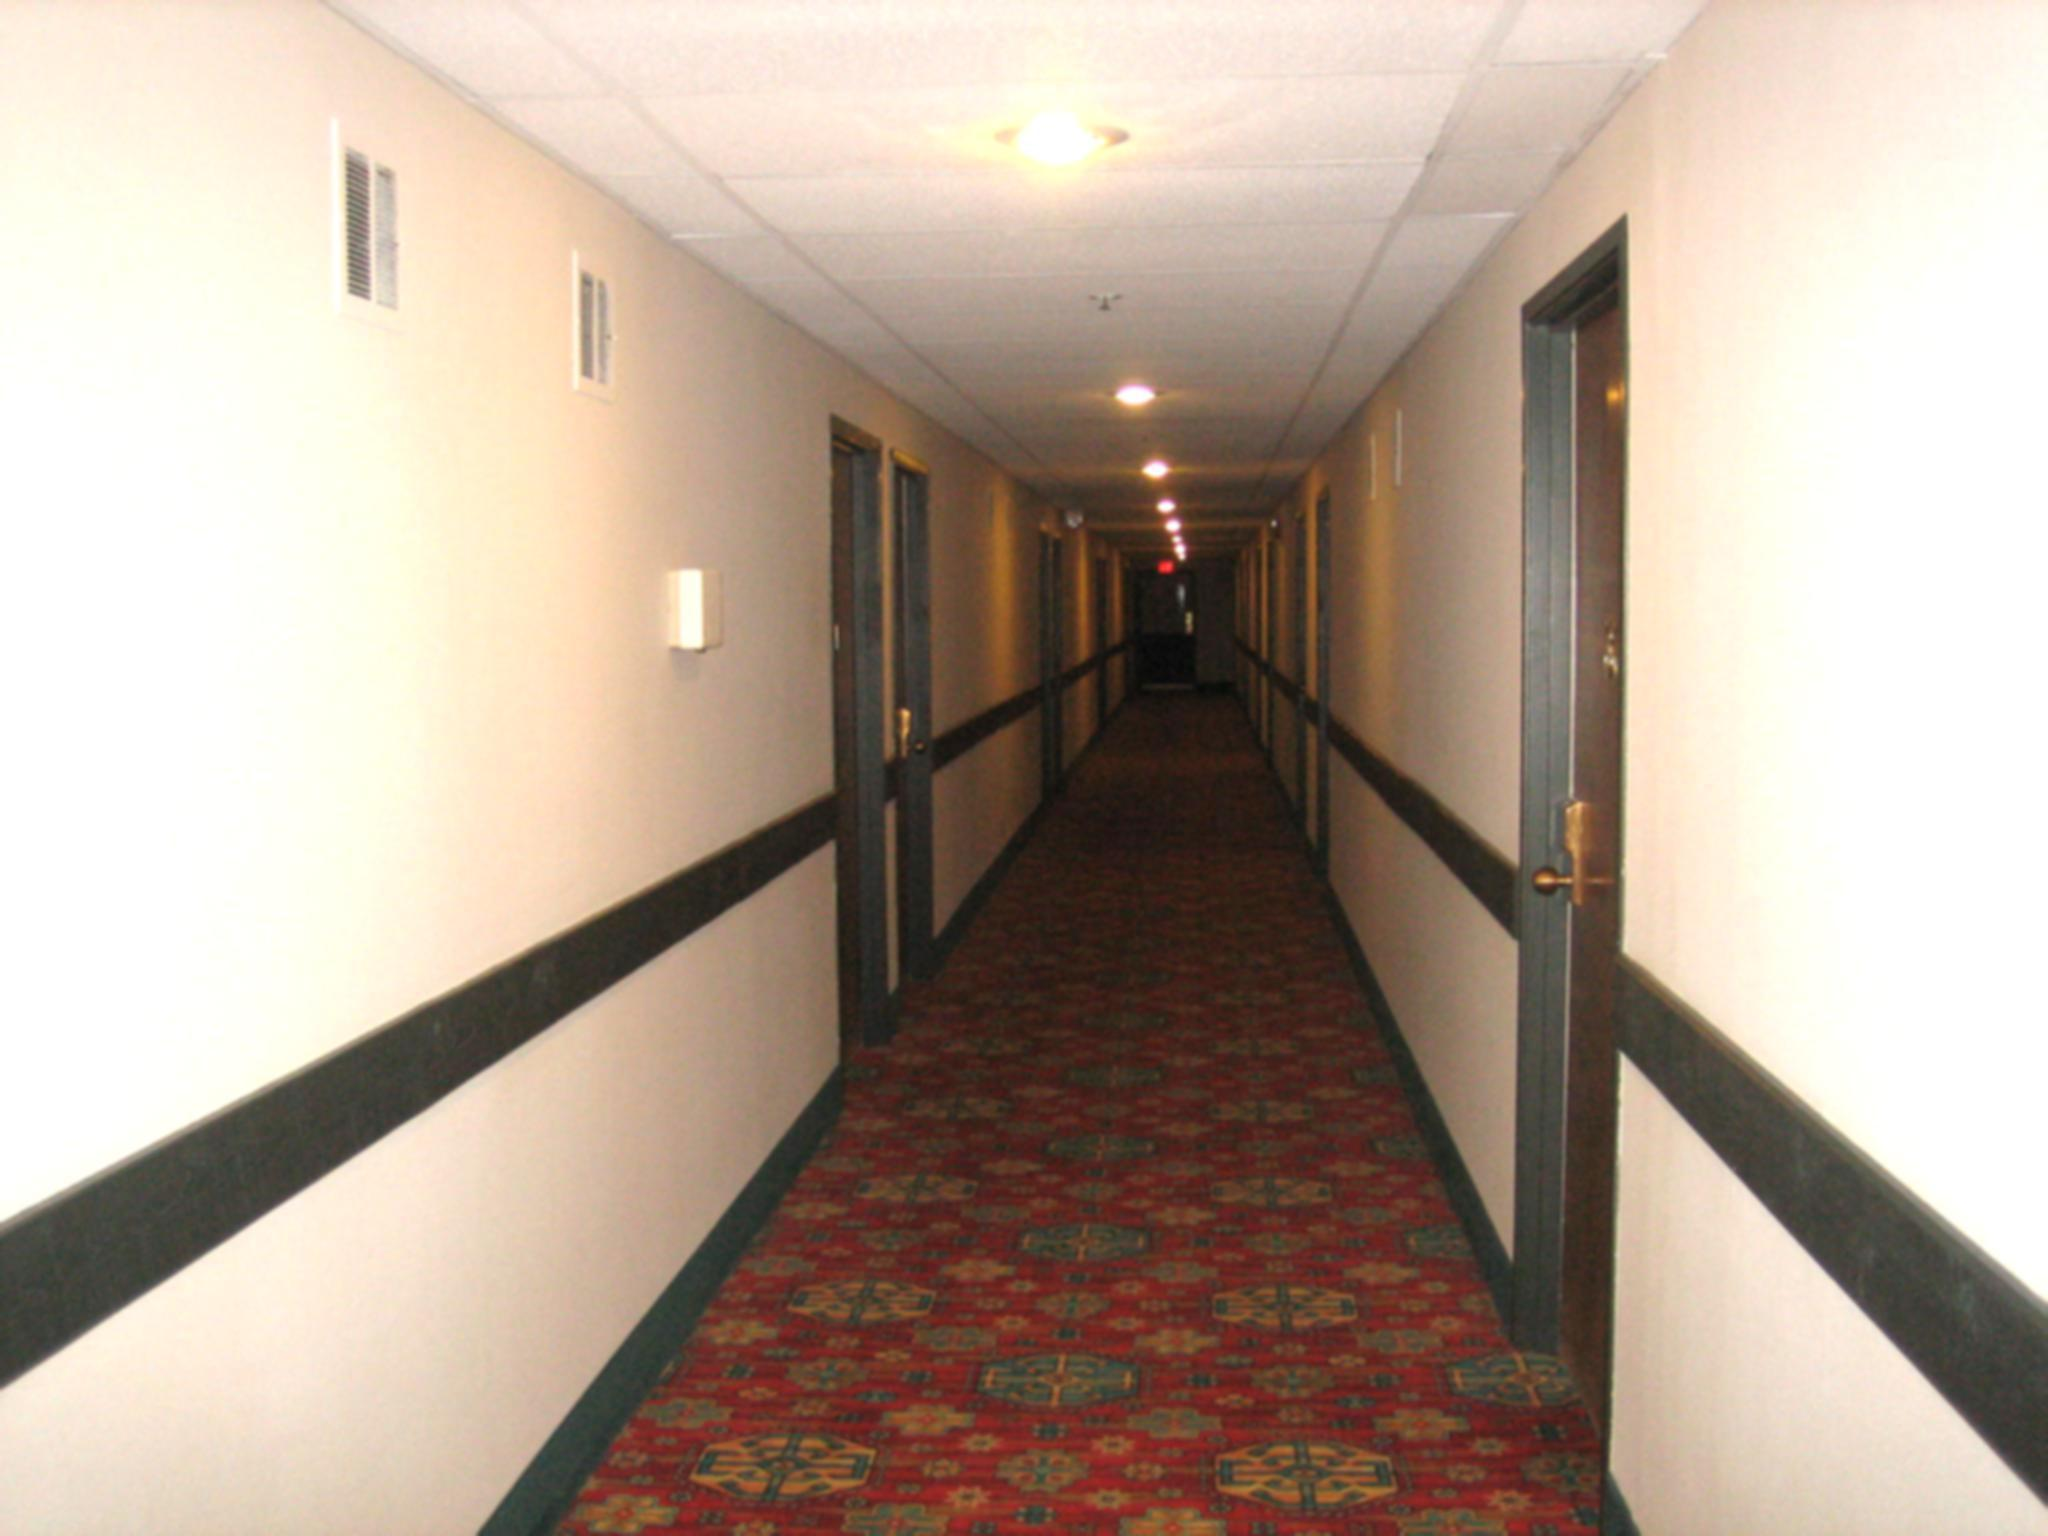Puerta: (1534, 298, 1617, 1434), (826, 458, 871, 1066)
